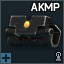AKMP system rear sight device: (0, 0, 64, 64)
